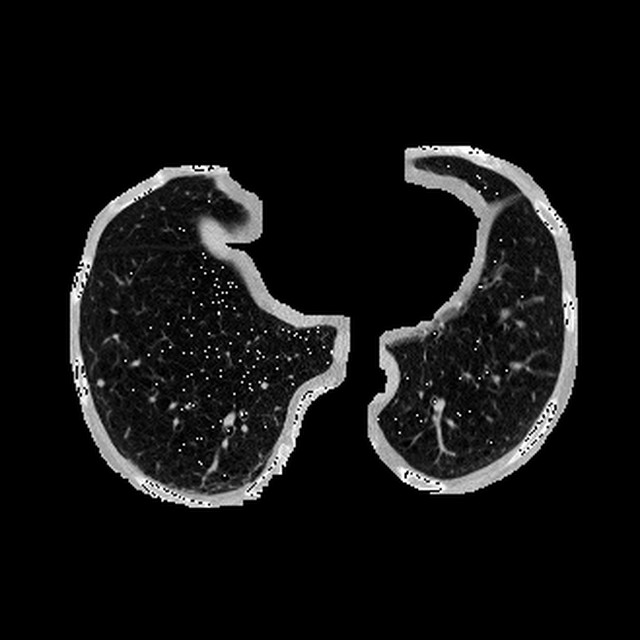PN: (95, 379, 103, 387)
